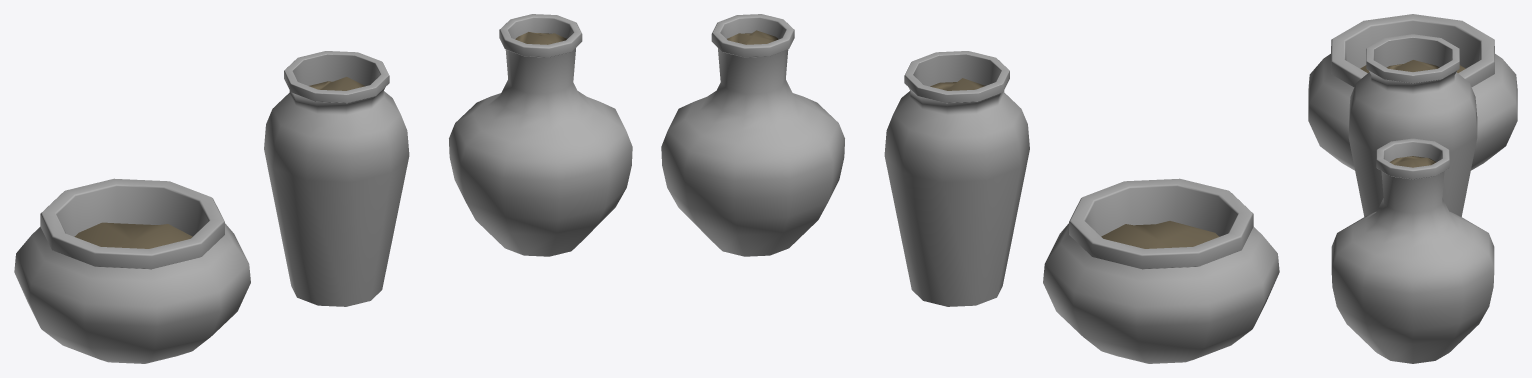
Rendered from Vases_Low.fbx.
The picture shows the model from 3 angles, left to right: view 1: azimuth 30°, elevation 25°; view 2: azimuth 150°, elevation 25°; view 3: azimuth 270°, elevation 25°; orthographic projection. The views are drawn at different scales.
Parts seen in each view (by area): view 1: Jar1_Low, Jar3_Low, Jar2_Low; view 2: Jar1_Low, Jar3_Low, Jar2_Low; view 3: Jar3_Low, Jar2_Low, Jar1_Low.
Boxes of the visible parts, x1,y1,x2,y2 form: Jar1_Low: (14,178,250,363); Jar3_Low: (449,14,632,256); Jar2_Low: (264,51,409,306); Jar1_Low: (1043,178,1279,363); Jar3_Low: (661,14,844,256); Jar2_Low: (884,51,1029,306); Jar3_Low: (1331,138,1494,363); Jar2_Low: (1348,34,1477,216); Jar1_Low: (1308,14,1517,170).
Bounding box in the file's own units: 2.32 × 0.8133 × 0.7686.
